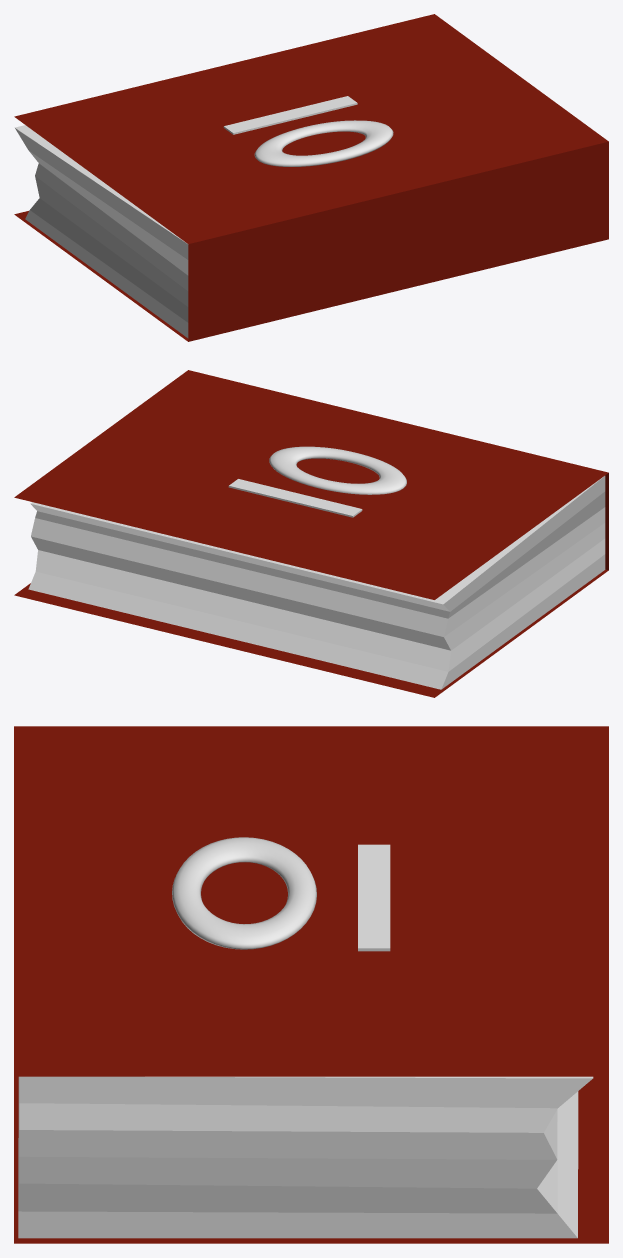
Rendered from 01 book.fbx.
3 renders of one model, top to bottom at view 1: azimuth 30°, elevation 25°; view 2: azimuth 150°, elevation 25°; view 3: azimuth 270°, elevation 25°, orthographic. The views are drawn at different scales.
Visible parts, largest first — view 1: 立方体, Cube, トーラス, 立方体.001; view 2: 立方体, Cube, トーラス, 立方体.001; view 3: 立方体, Cube, トーラス, 立方体.001.
Part boxes in pixels (x1,y1,x2,y2): 立方体: (14,14,608,341); Cube: (15,125,188,338); トーラス: (254,120,393,166); 立方体.001: (223,96,357,134); 立方体: (14,370,608,697); Cube: (28,476,605,689); トーラス: (269,446,406,494); 立方体.001: (228,479,362,517); 立方体: (14,726,608,1243); Cube: (18,1076,593,1238); トーラス: (172,837,316,949); 立方体.001: (358,844,390,951).
Size of the model in its own units: 214 by 50.02 by 152.
